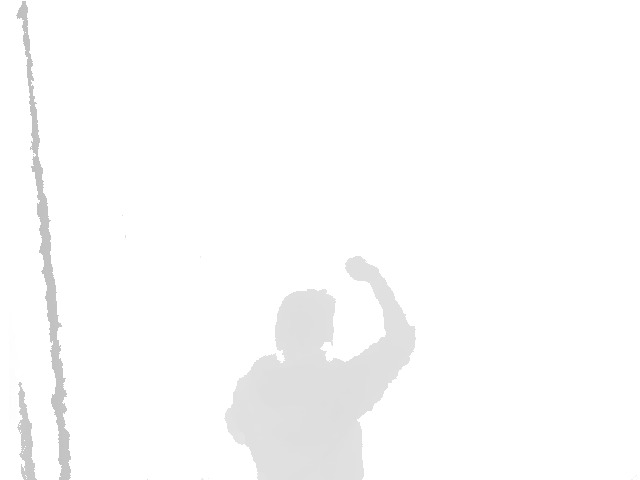hand: (345, 255, 382, 285)
head: (273, 288, 337, 360)
person: (224, 255, 418, 480)
